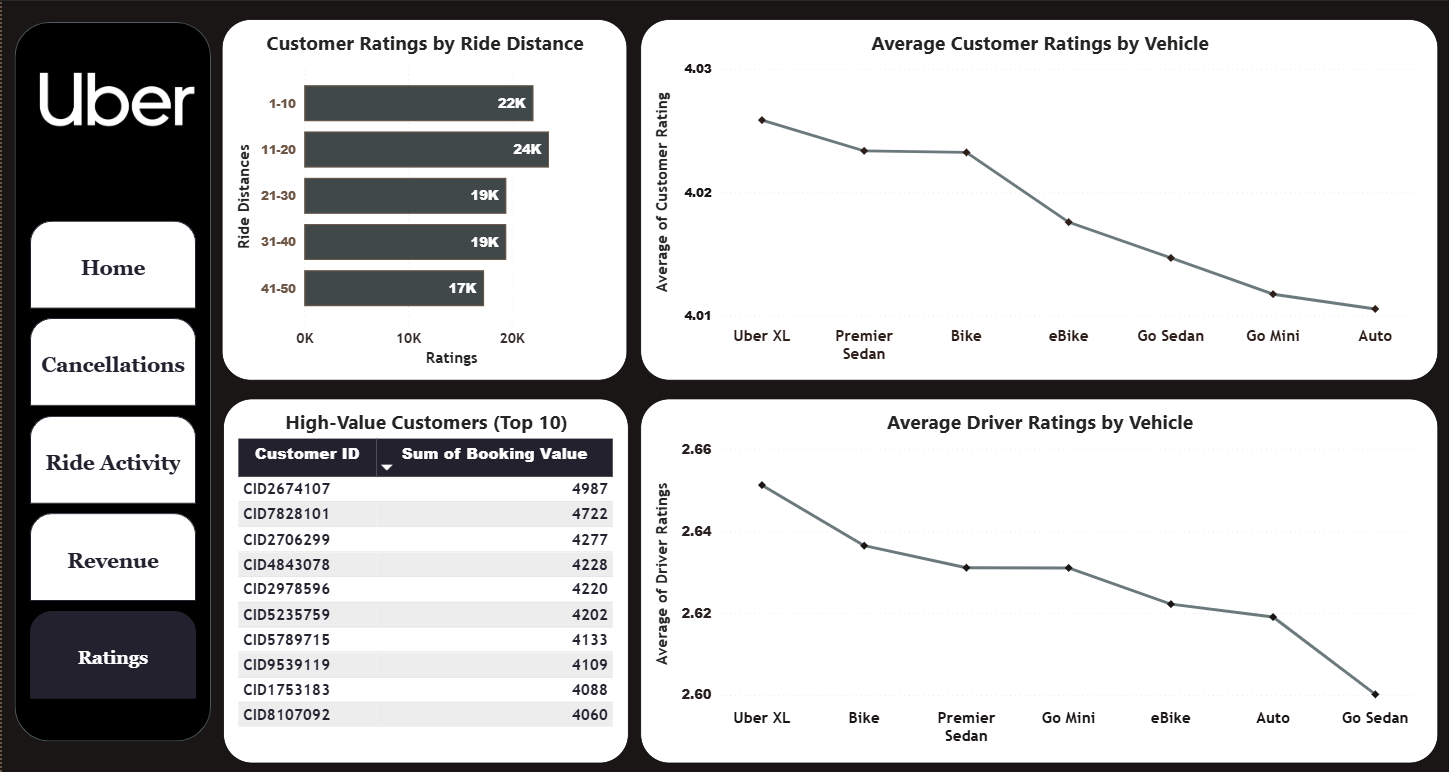

Layout of this report page (visuals, bound fields, positions):
{"tool":"powerbi","page":{"name":"Ratings","canvas":[1500,800],"ordinal":4},"visuals":[{"type":"tableEx","title":"High-Value Customers (Top 10)","fields":{"Values":["ncr_ride_bookings.Customer ID","Sum(ncr_ride_bookings.Booking Value)"]},"box":[229.5,411.7,419.9,377.5],"z":0},{"type":"lineChart","title":"Average Customer Ratings by Vehicle","fields":{"Y":["Avg(ncr_ride_bookings.Customer Rating)"],"Category":["ncr_ride_bookings.Vehicle Type"]},"box":[660.7,19.5,826.7,374.3],"z":1000},{"type":"clusteredBarChart","title":"Customer Ratings by Ride Distance","fields":{"Category":["ncr_ride_bookings.Ride Distances"],"Y":["CountNonNull(ncr_ride_bookings.Customer Rating)"]},"box":[227.8,19.5,419.9,374.3],"z":2000},{"type":"lineChart","title":"Average Driver Ratings by Vehicle","fields":{"Category":["ncr_ride_bookings.Vehicle Type"],"Y":["Avg(ncr_ride_bookings.Driver Ratings)"]},"box":[660.7,411.7,826.7,377.5],"z":3000},{"type":"shape","box":[13,21.2,203.4,745.3],"z":4000},{"type":"image","box":[26.9,47.8,182.2,107.5],"z":5000},{"type":"pageNavigator","box":[29.3,227.8,172.5,498],"z":6000}]}

Visuals, with their boxes in screenshot pixels (x1, y1, x2, y2), scaled from the page's 1500x800 canvas onto the 1449x772 screenshot:
"High-Value Customers (Top 10)" tableEx: 222:397:627:762
"Average Customer Ratings by Vehicle" lineChart: 638:19:1437:380
"Customer Ratings by Ride Distance" clusteredBarChart: 220:19:626:380
"Average Driver Ratings by Vehicle" lineChart: 638:397:1437:762
shape: 13:20:209:740
image: 26:46:202:150
pageNavigator: 28:220:195:700
